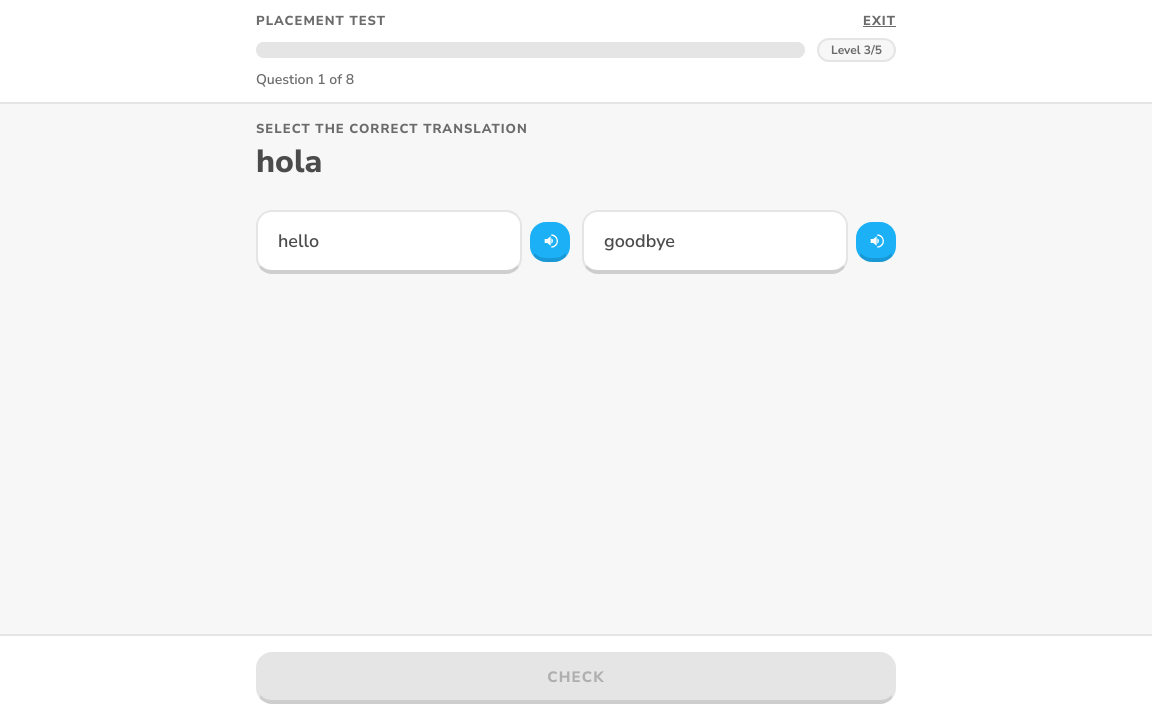
Scenario: PlacementRunner › answering shows the verdict and then the next question
The width and height of the screenshot is (1152, 720).
Click the radio button labelled "hello" at coordinates (299, 241), box [256,210,522,274]
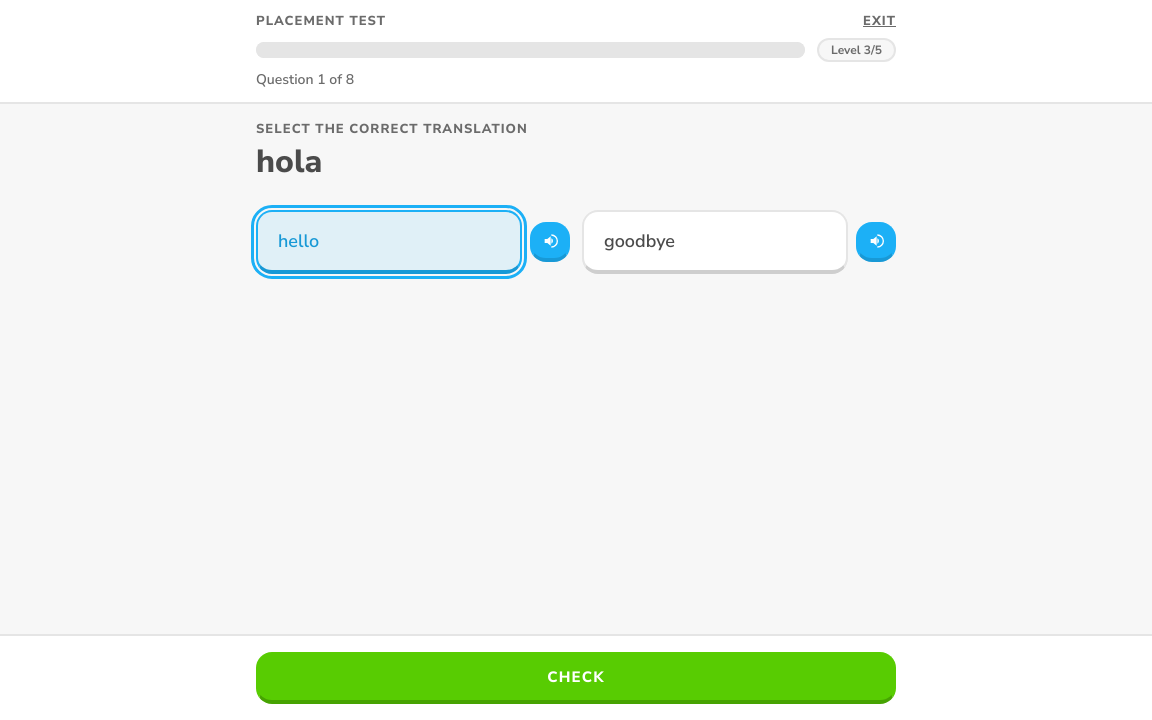
Click the button "Check" at coordinates (576, 678), box [256,652,896,704]
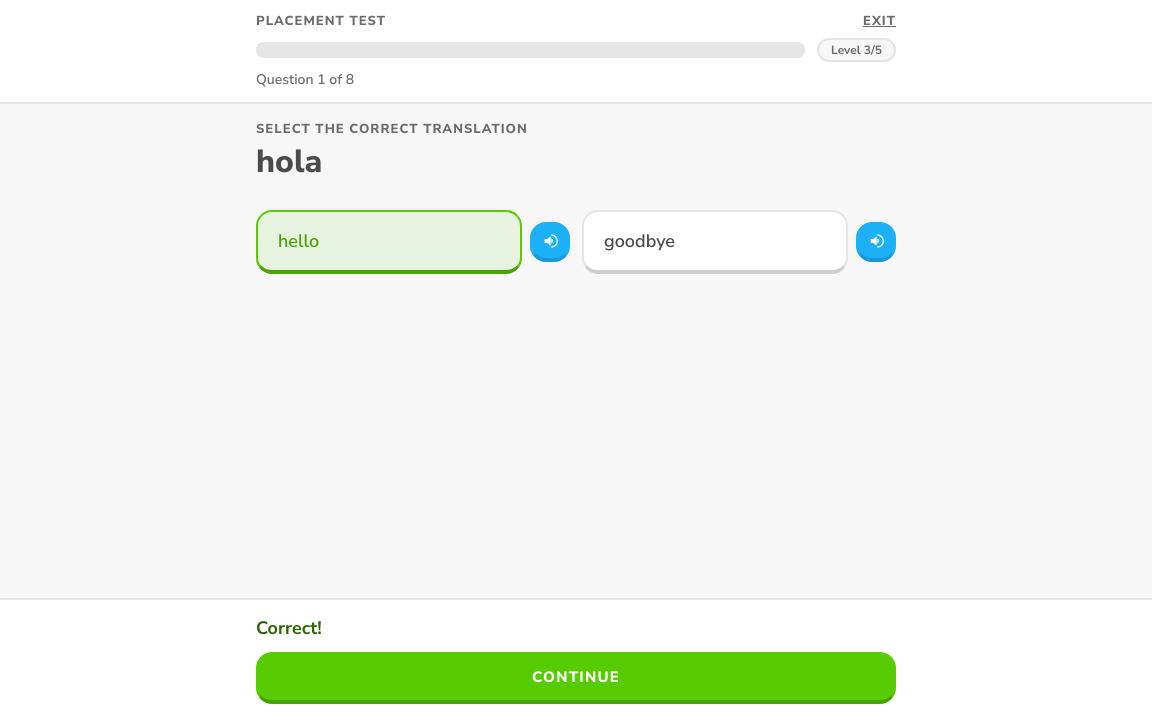
Expected: the text "Correct!" is shown, [256,616,322,640]
Click the button "Continue" at coordinates (576, 678), box [256,652,896,704]
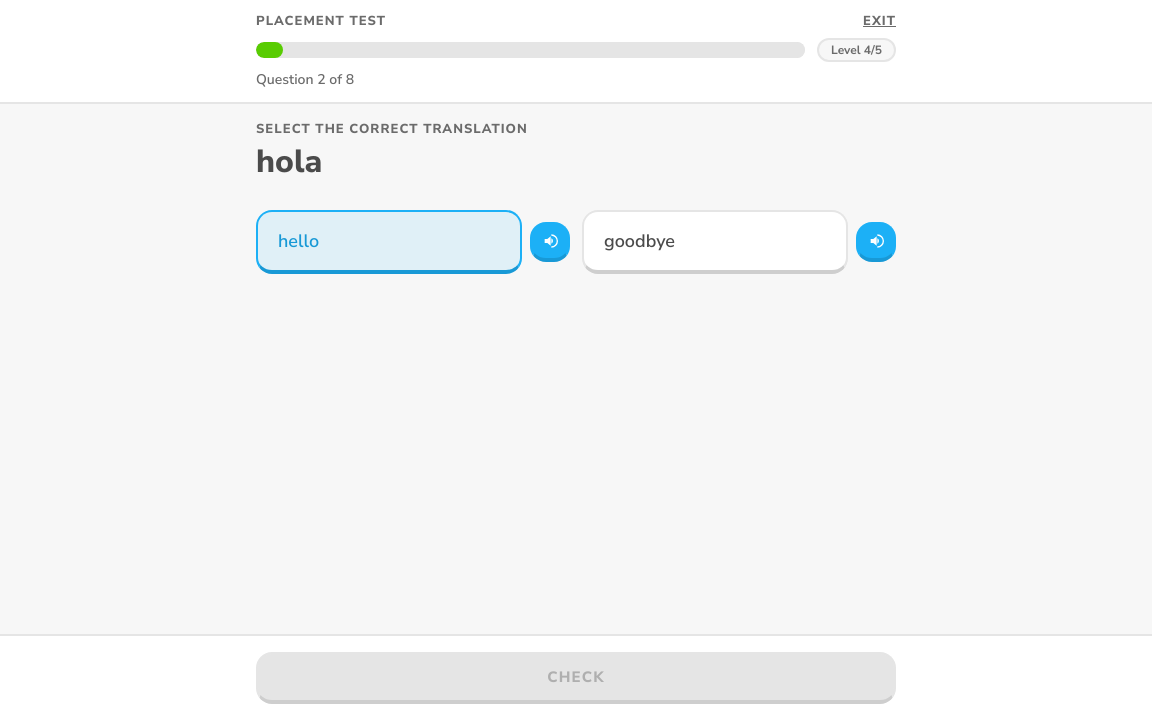
Expected: the text "Question 2 of 8" is shown, [256,70,354,89]
Expected: the text "Level 4/5" is shown, [817,38,896,62]
